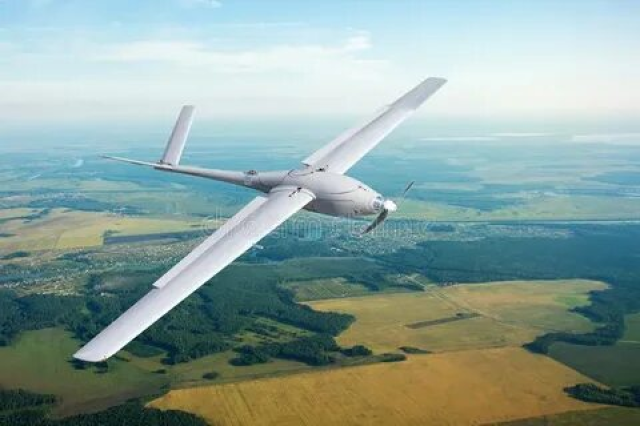military drone: (72, 76, 448, 362)
